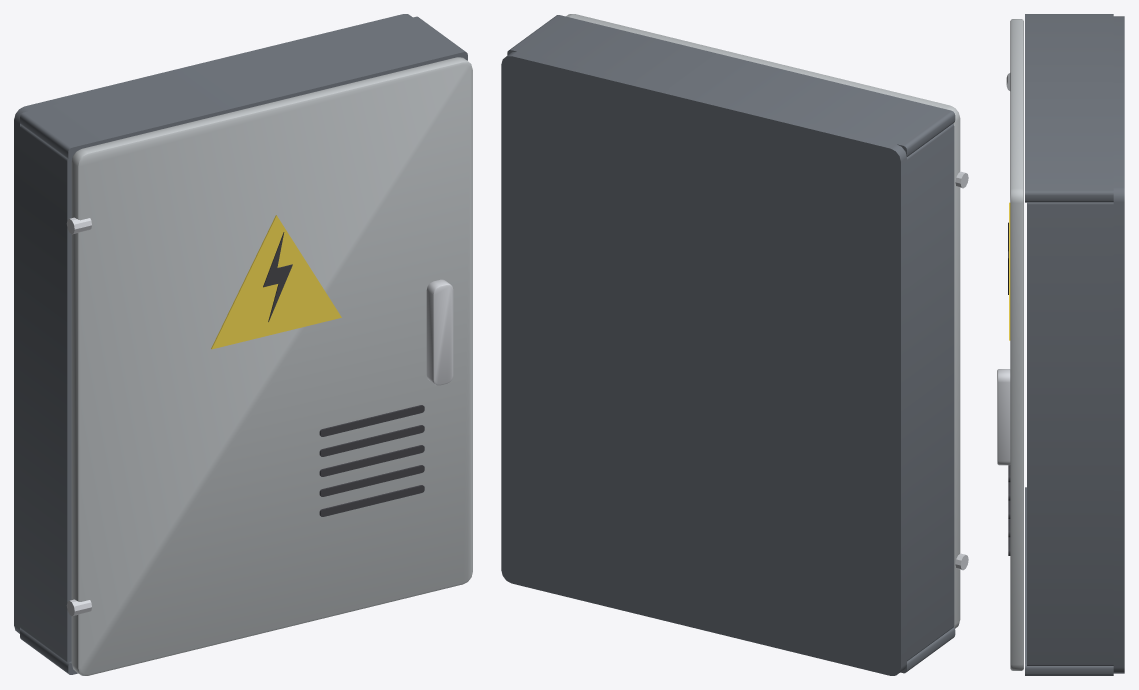
File: SM_IncBreaker.fbx
The picture shows the model from 3 angles, left to right: view 1: azimuth 30°, elevation 25°; view 2: azimuth 150°, elevation 25°; view 3: azimuth 270°, elevation 25°; orthographic projection. The views are drawn at different scales.
Visible parts, largest first — view 1: BreakerDoor, BreakerBox; view 2: BreakerBox, BreakerDoor; view 3: BreakerBox, BreakerDoor.
Part boxes in pixels (x1,y1,x2,y2): BreakerDoor: [66, 57, 472, 675]; BreakerBox: [14, 14, 467, 674]; BreakerBox: [501, 15, 955, 675]; BreakerDoor: [566, 14, 968, 628]; BreakerBox: [1025, 14, 1124, 675]; BreakerDoor: [997, 19, 1023, 670].
Bounding box in the file's own units: 0.464 × 0.58 × 0.138.
